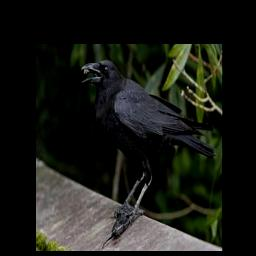Crow: (80, 58, 217, 227)
